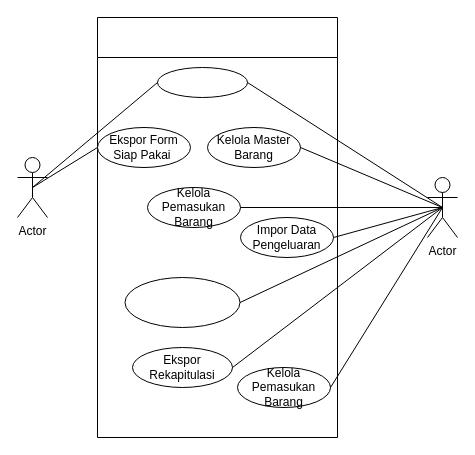
This 475x455 diagram has some shape labels left out. Here are the shapes that lost their labels. From the top down, the box of each, then its label:
(156, 66, 248, 98): Pantau Stok Real-time
(96, 16, 338, 438): SISTEM PERSEDIAAN BPS KOTA MANADO
(124, 276, 240, 328): Validasi & Kontrol Transaksi
